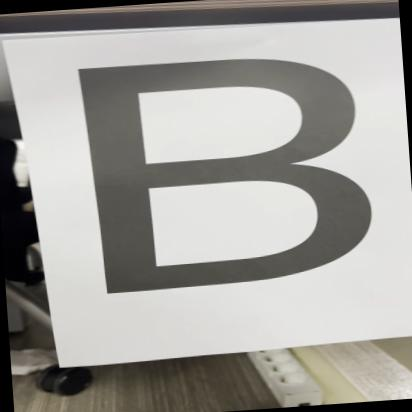seat: (58, 42, 374, 298)
